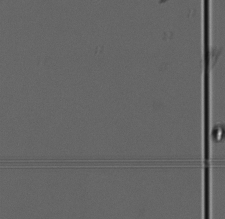Living Cell: (210, 125, 223, 142)
